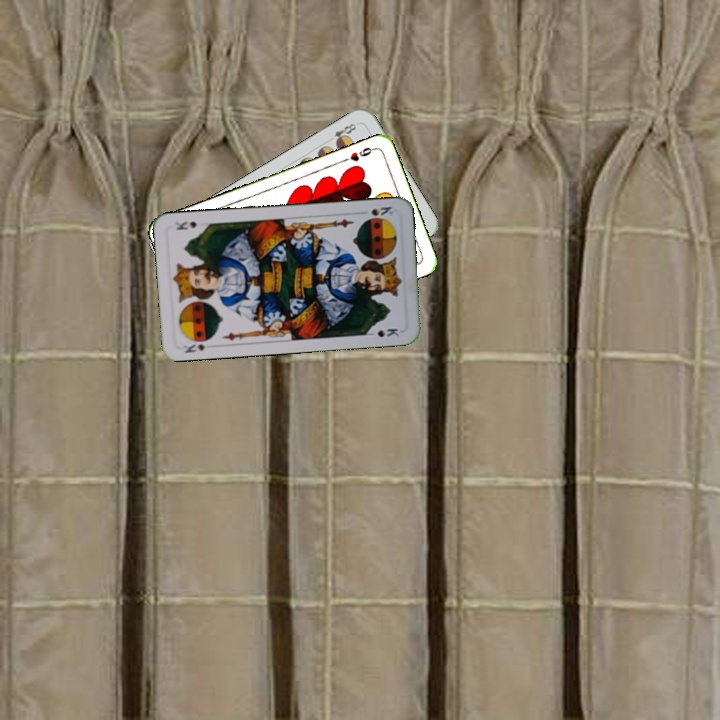E8: (324, 119, 361, 147)
H9: (339, 143, 378, 164)
SK: (356, 202, 395, 218), (180, 340, 208, 356)
